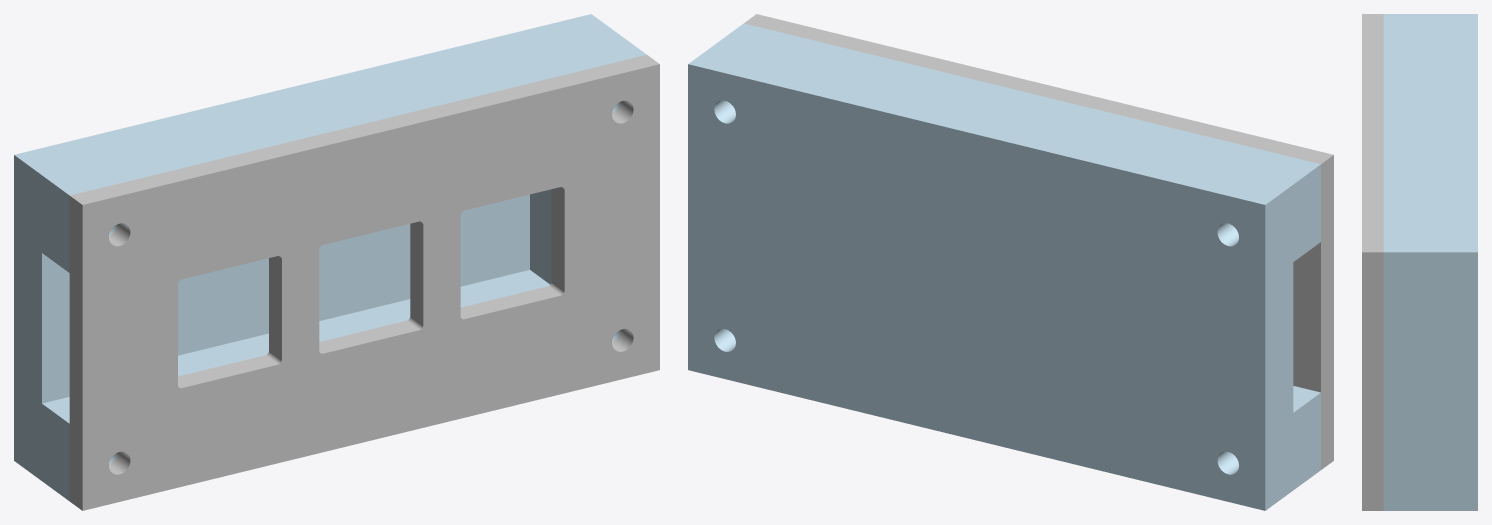
Rendered from pixelpad_case.gltf.
3 views of the same model, side by side, from view 1: azimuth 30°, elevation 25°; view 2: azimuth 150°, elevation 25°; view 3: azimuth 270°, elevation 25° (orthographic). The views are drawn at different scales.
Visible parts, largest first — view 1: Part 2, Part 1; view 2: Part 1, Part 2; view 3: Part 1, Part 2.
Part boxes in pixels (<box>): Part 2: <box>69,55,659,510</box>; Part 1: <box>14,14,646,500</box>; Part 1: <box>688,23,1320,510</box>; Part 2: <box>744,14,1333,469</box>; Part 1: <box>1383,14,1477,510</box>; Part 2: <box>1362,14,1383,510</box>.
Size of the model in its own units: 0.0778 by 0.0394 by 0.016.
